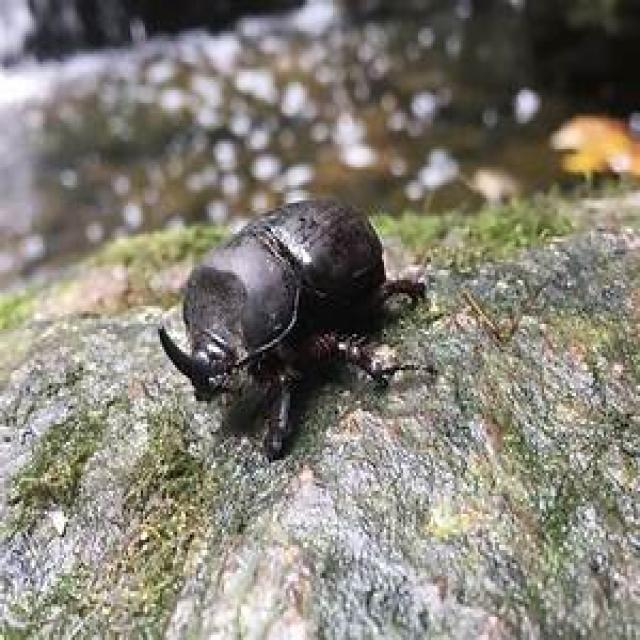Rhino-beetle: (158, 135, 424, 463)
